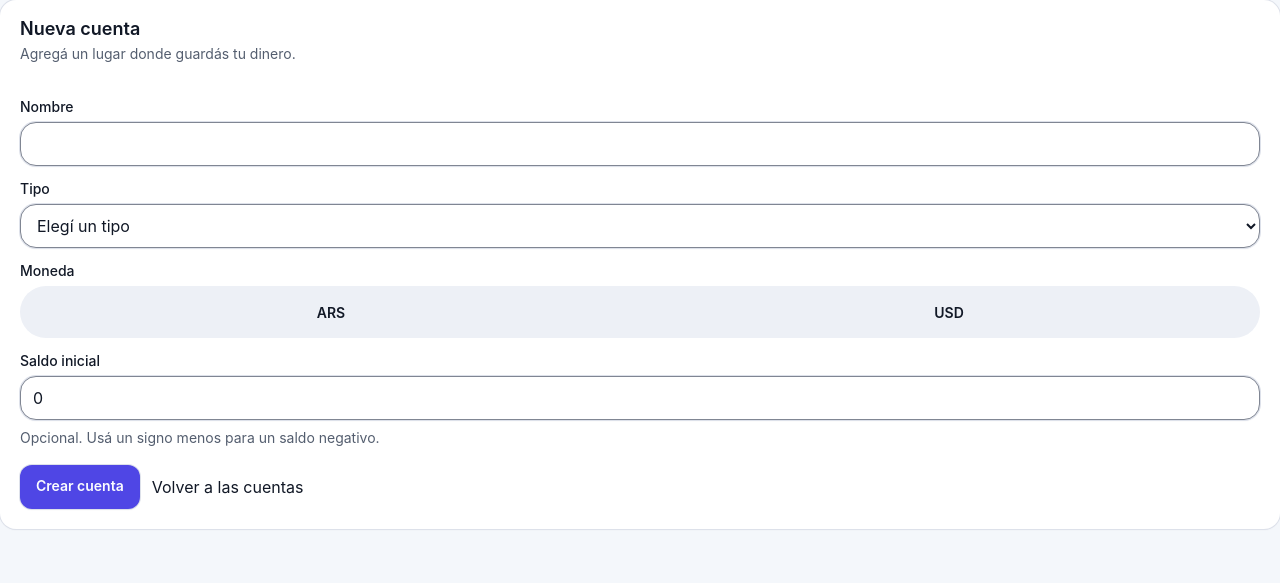
Test: AccountForm include in available setting › starts cash with the shared type default (AC-03, AC-04)
Select "Efectivo" in the dropdown labelled "Tipo": (640, 226) [20,204,1260,248]
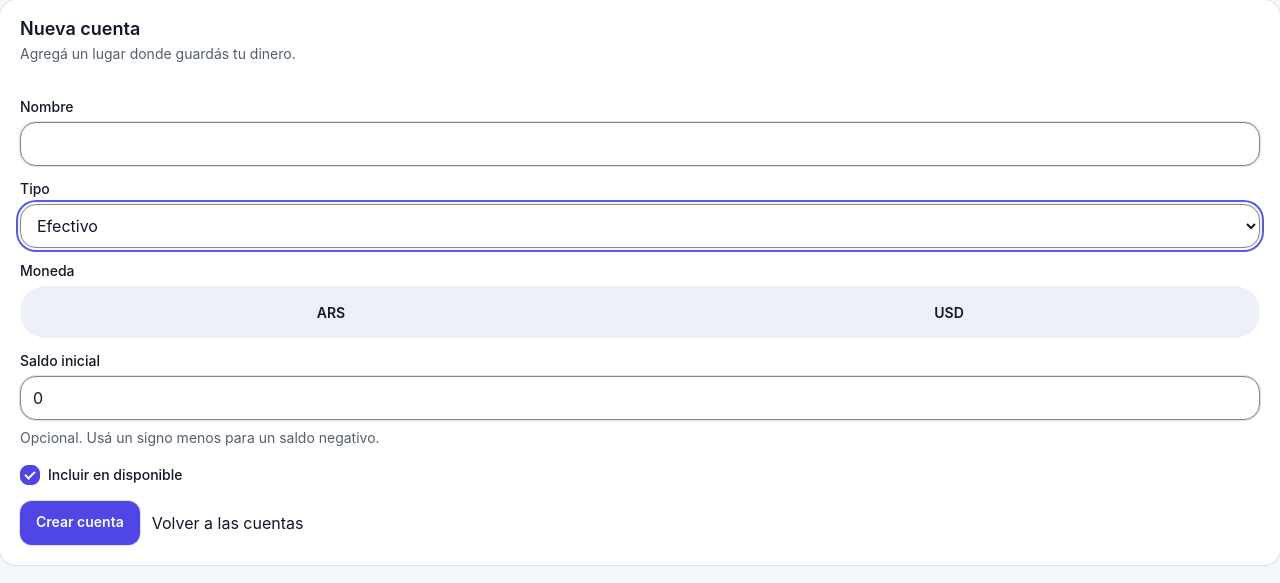
Expected: the checkbox labelled "Incluir en disponible" is checked, [20,465,40,485]
